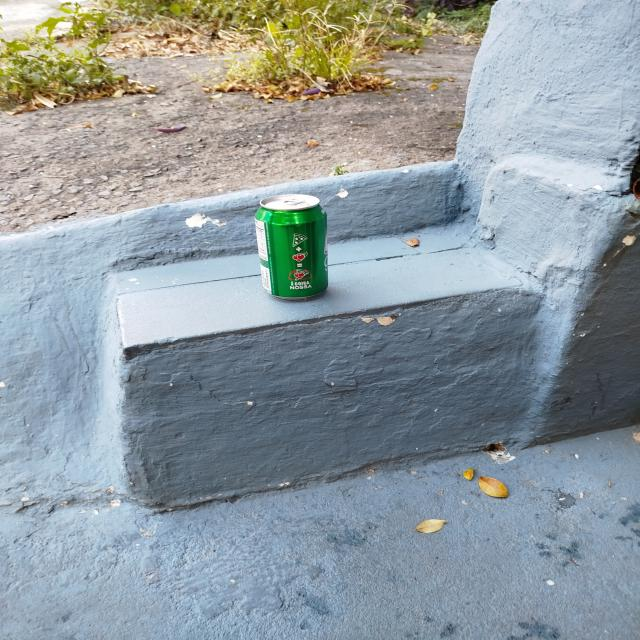Guarana: (253, 194, 327, 300)
